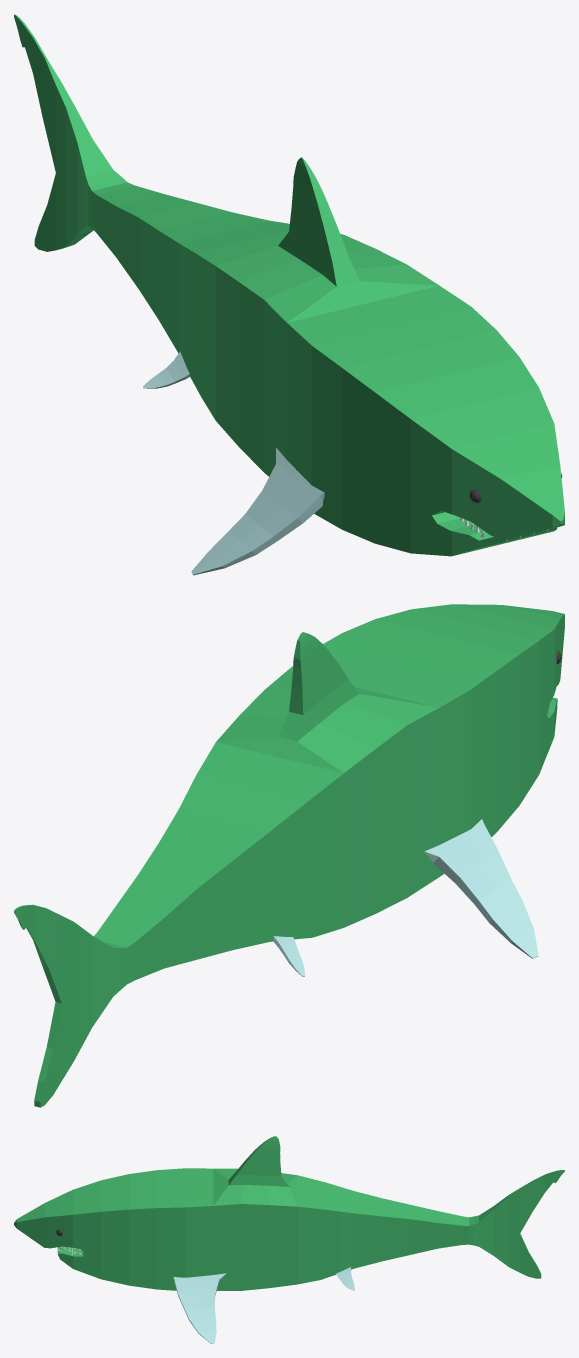
Rendered from Shark.fbx.
The picture shows the model from 3 angles, top to bottom: view 1: azimuth 30°, elevation 25°; view 2: azimuth 150°, elevation 25°; view 3: azimuth 270°, elevation 25°; orthographic projection. The views are drawn at different scales.
Parts seen in each view (by area): view 1: Eyes; view 2: Eyes; view 3: Eyes.
Boxes of the visible parts, x1,y1,x2,y2 form: Eyes: (14, 14, 564, 575); Eyes: (14, 604, 564, 1107); Eyes: (14, 1136, 564, 1343).
Size of the model in its own units: 243 by 221 by 666.
